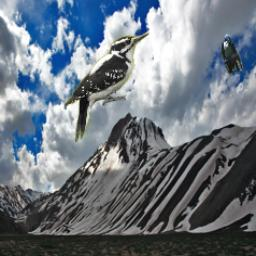Swallow: (219, 35, 243, 77)
Woodpecker: (66, 29, 151, 142)
